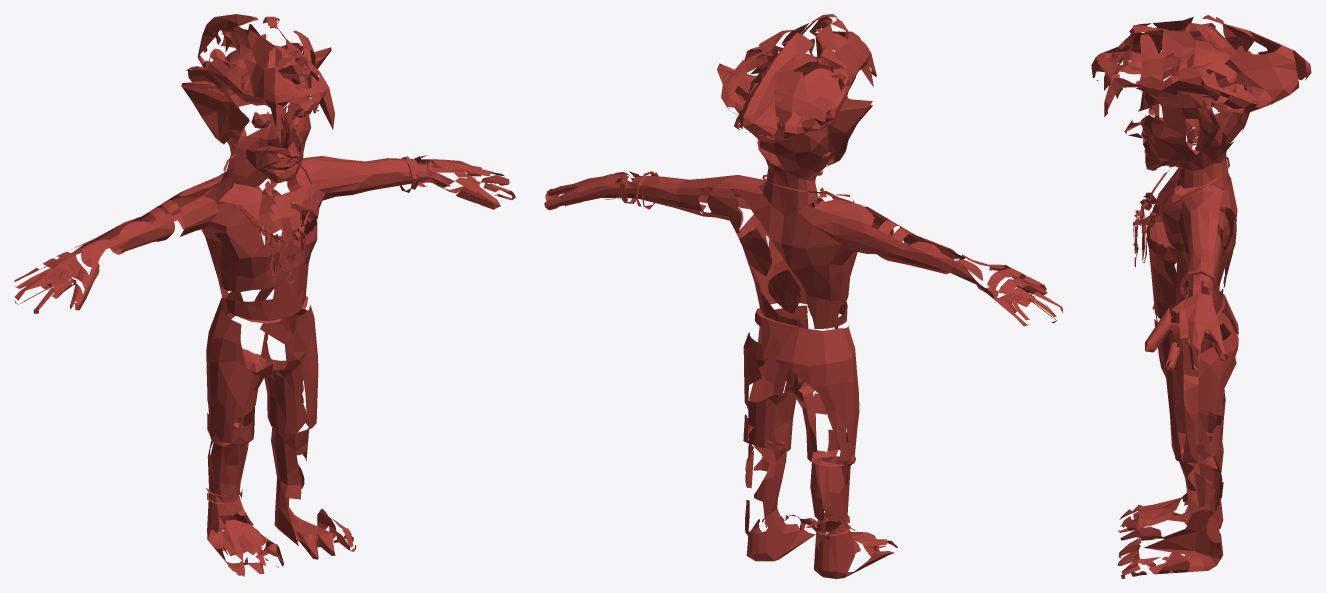
Rendered from Goblin.fbx.
3 views of the same model, side by side, from view 1: azimuth 30°, elevation 25°; view 2: azimuth 150°, elevation 25°; view 3: azimuth 270°, elevation 25° (orthographic). The views are drawn at different scales.
Visible parts, largest first — view 1: Goblin Character.001; view 2: Goblin Character.001; view 3: Goblin Character.001.
Part boxes in pixels (x1,y1,x2,y2): Goblin Character.001: (14, 14, 515, 576); Goblin Character.001: (544, 14, 1062, 578); Goblin Character.001: (1091, 15, 1311, 578).
Bounding box in the file's own units: 141 × 141 × 52.96.
